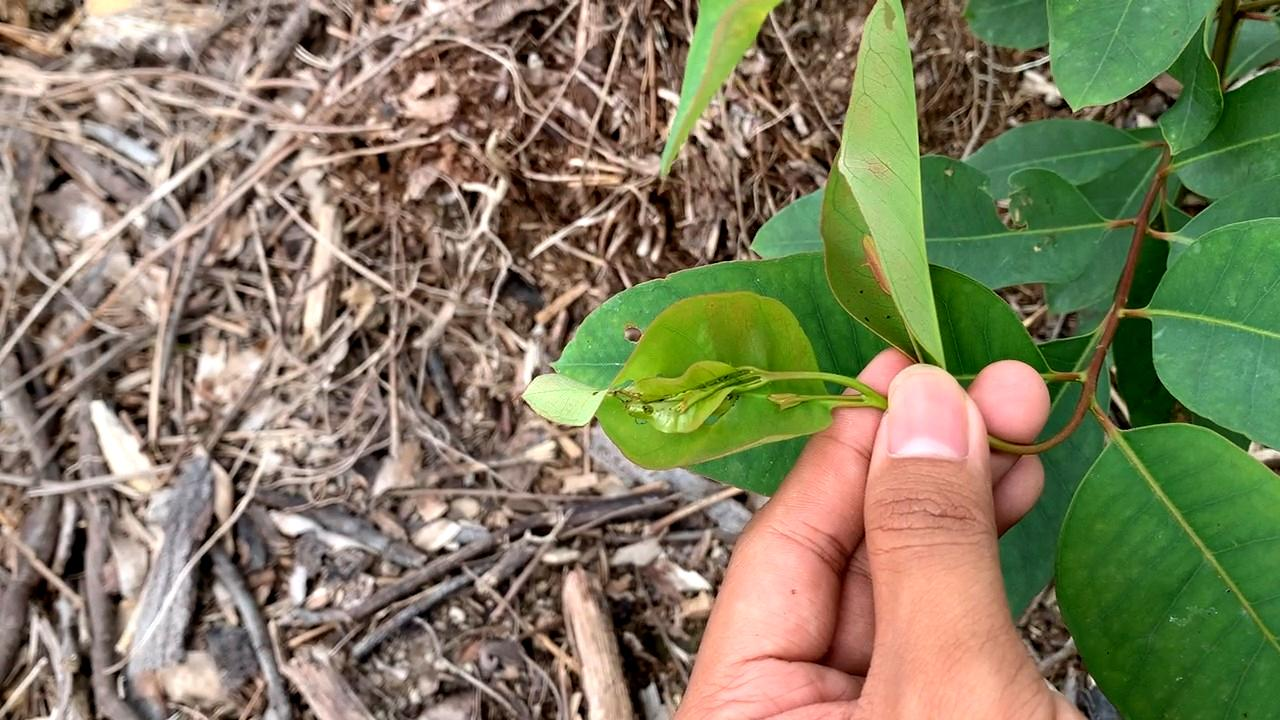Leaf Roller - Leaf: (520, 292, 834, 489)
